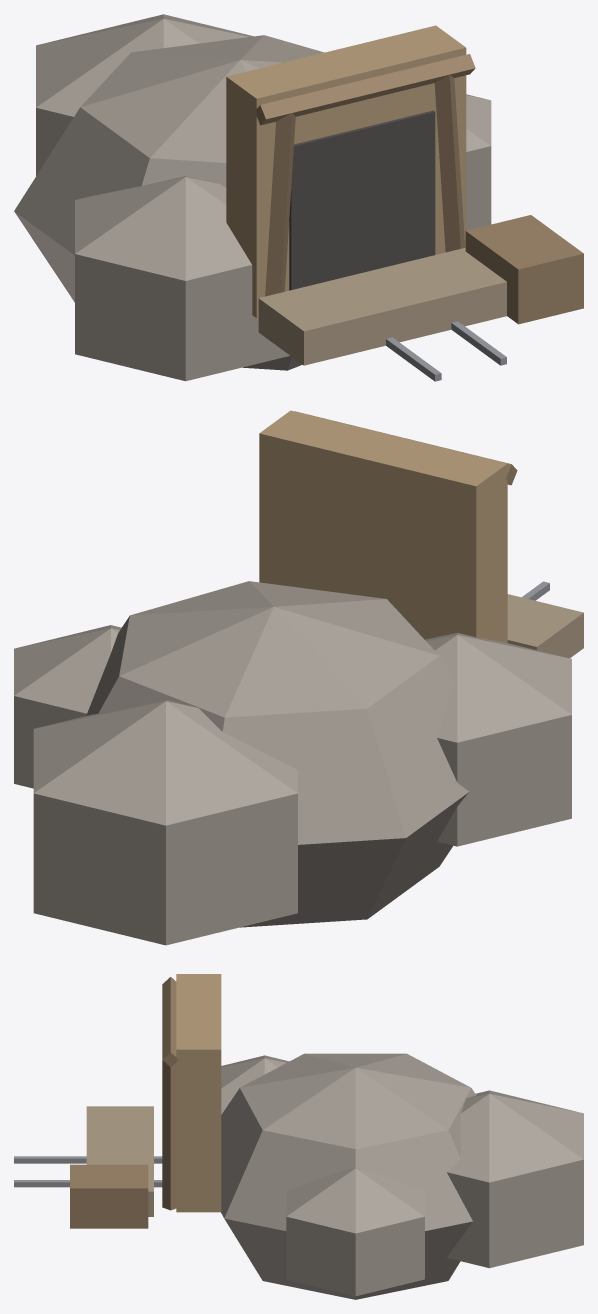
3 views of the same model, one above another, from view 1: azimuth 30°, elevation 25°; view 2: azimuth 150°, elevation 25°; view 3: azimuth 270°, elevation 25° (orthographic). The views are drawn at different scales.
Visible parts, largest first — view 1: body; view 2: body; view 3: body.
Part boxes in pixels (left/top/right/bottom): body: left=14, top=14, right=583, bottom=381; body: left=14, top=410, right=583, bottom=945; body: left=14, top=974, right=583, bottom=1299.
Bounding box in the file's own units: 7.29 × 5.3 × 10.18.
